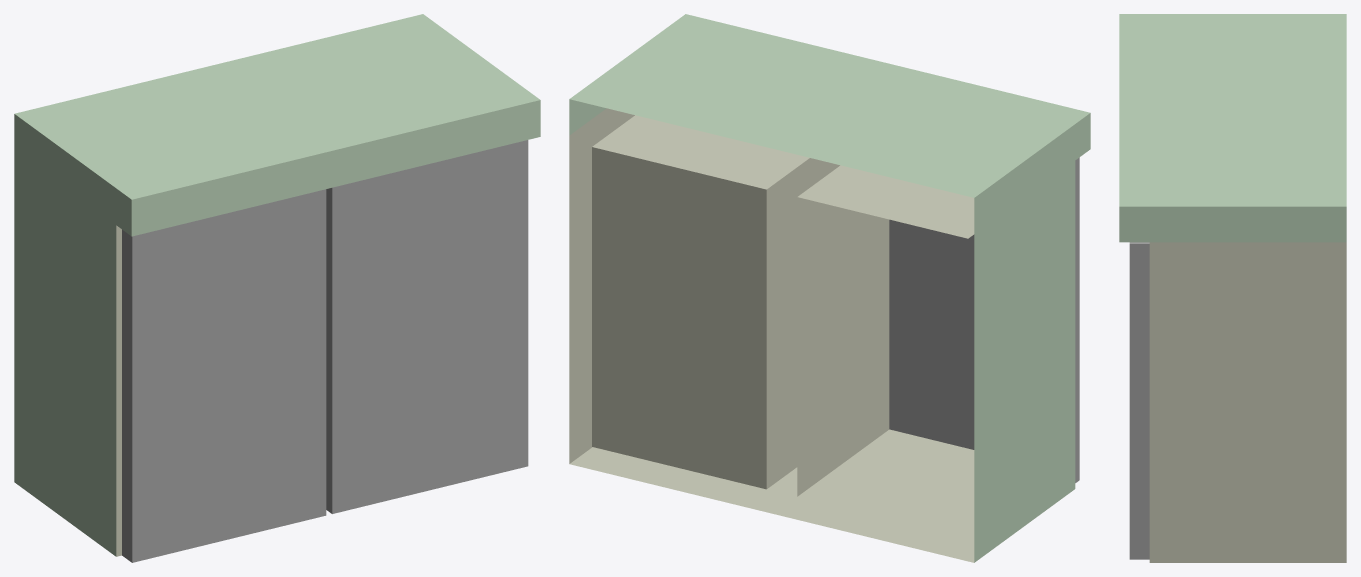
The model's file is SM_Counter_Group.fbx.
3 renders of one model, left to right at view 1: azimuth 30°, elevation 25°; view 2: azimuth 150°, elevation 25°; view 3: azimuth 270°, elevation 25°, orthographic. The views are drawn at different scales.
Parts seen in each view (by area): view 1: SM_Counter, SM_CounterCabinet_A, SM_CounterCabinet_B; view 2: SM_Counter, SM_CounterCabinet_A; view 3: SM_Counter, SM_CounterCabinet_B.
Boxes of the visible parts, left/top/right/bottom form: SM_Counter: left=14, top=14, right=540, bottom=556; SM_CounterCabinet_A: left=122, top=189, right=326, bottom=562; SM_CounterCabinet_B: left=326, top=140, right=528, bottom=513; SM_Counter: left=569, top=14, right=1090, bottom=562; SM_CounterCabinet_A: left=889, top=157, right=1079, bottom=482; SM_Counter: left=1119, top=14, right=1346, bottom=562; SM_CounterCabinet_B: left=1129, top=242, right=1149, bottom=559.
Bounding box in the file's own units: 0.8395 × 0.7231 × 0.4179.
